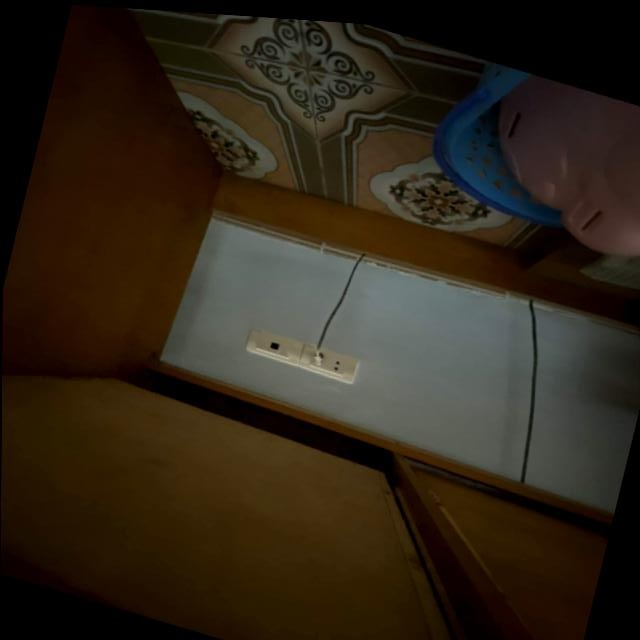outlet: (297, 343, 359, 385), (244, 327, 302, 368)
